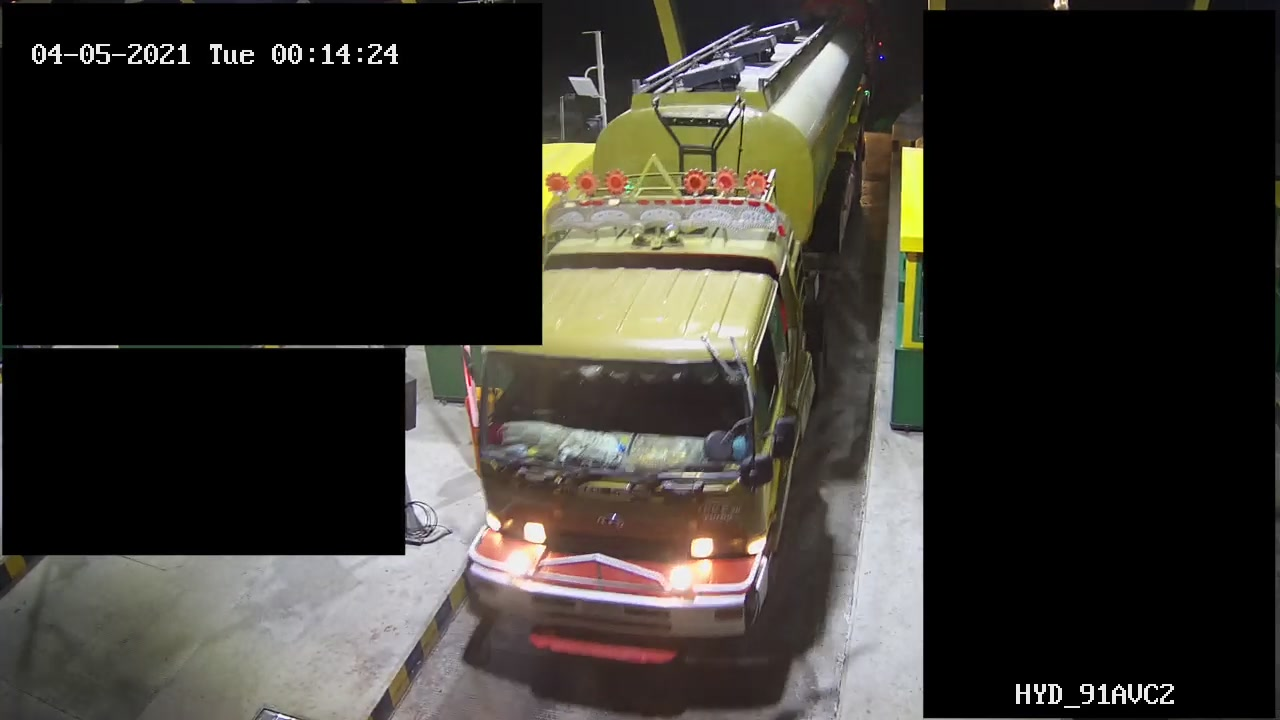F6: (456, 17, 886, 666)
